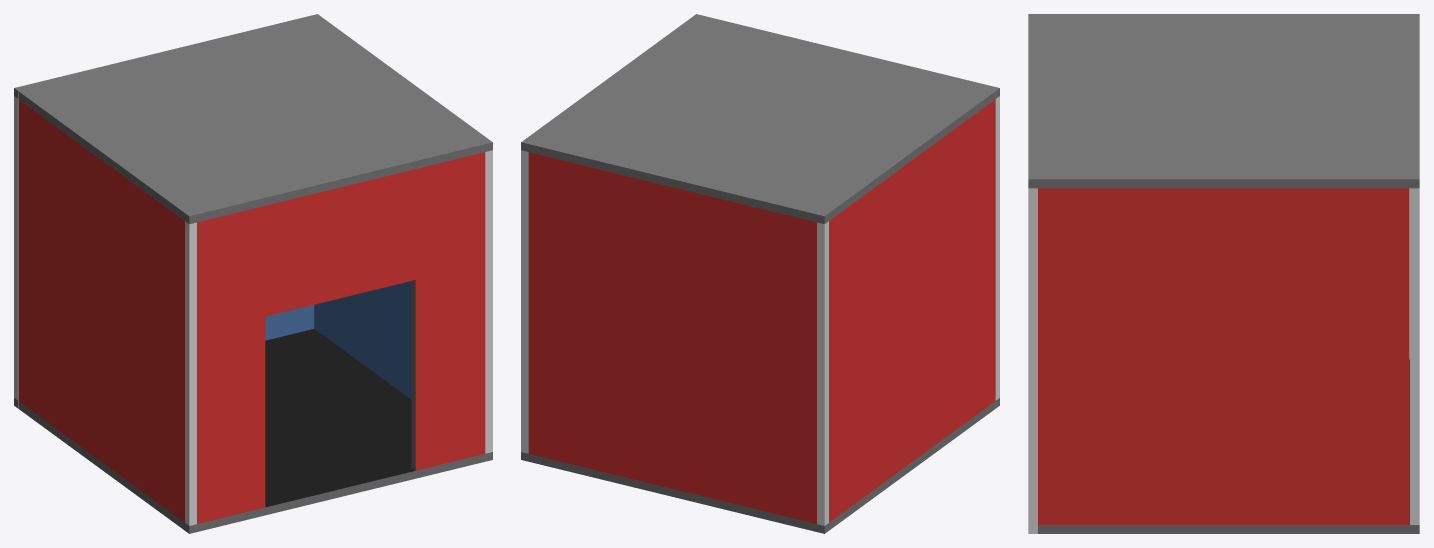
Rendered from Modular.fbx.
The picture shows the model from 3 angles, left to right: view 1: azimuth 30°, elevation 25°; view 2: azimuth 150°, elevation 25°; view 3: azimuth 270°, elevation 25°; orthographic projection. The views are drawn at different scales.
Visible parts, largest first — view 1: Doorway, West Wall, Ceiling, Floor, East Wall, Top South Beam, SouthWest Pillar, Bottom South Beam, Top West Beam, SouthEast Pillar, NorthWest Pillar, Bottom West Beam (+3 smaller); view 2: North Wall, West Wall, Ceiling, Top North Beam, NorthWest Pillar, Top West Beam, Bottom North Beam, NorthEast Pillar, SouthWest Pillar, Bottom West Beam, Top South Beam, Top East Beam; view 3: East Wall, Ceiling, Top East Beam, SouthEast Pillar, NorthEast Pillar, Bottom East Beam, Top North Beam, Top South Beam, Top West Beam.
Boxes of the visible parts, x1=… form: Doorway: x1=197, y1=152, x2=485, y2=523; West Wall: x1=18, y1=99, x2=184, y2=522; Ceiling: x1=26, y1=19, x2=480, y2=211; Floor: x1=265, y1=329, x2=411, y2=502; East Wall: x1=314, y1=281, x2=411, y2=399; Top South Beam: x1=193, y1=141, x2=485, y2=222; SouthWest Pillar: x1=185, y1=221, x2=196, y2=525; Bottom South Beam: x1=197, y1=454, x2=485, y2=531; Top West Beam: x1=18, y1=89, x2=191, y2=220; SouthEast Pillar: x1=485, y1=150, x2=492, y2=453; NorthWest Pillar: x1=14, y1=96, x2=18, y2=400; Bottom West Beam: x1=18, y1=401, x2=184, y2=530; North Wall: x1=528, y1=152, x2=816, y2=523; West Wall: x1=829, y1=99, x2=995, y2=522; Ceiling: x1=533, y1=19, x2=987, y2=211; Top North Beam: x1=528, y1=141, x2=820, y2=222; NorthWest Pillar: x1=817, y1=221, x2=828, y2=525; Top West Beam: x1=822, y1=89, x2=995, y2=220; Bottom North Beam: x1=528, y1=454, x2=816, y2=531; NorthEast Pillar: x1=521, y1=150, x2=528, y2=453; SouthWest Pillar: x1=995, y1=96, x2=999, y2=400; Bottom West Beam: x1=829, y1=401, x2=995, y2=530; Top South Beam: x1=700, y1=16, x2=991, y2=89; Top East Beam: x1=526, y1=17, x2=698, y2=140; East Wall: x1=1038, y1=188, x2=1409, y2=524; Ceiling: x1=1038, y1=18, x2=1409, y2=175; Top East Beam: x1=1038, y1=175, x2=1409, y2=188; SouthEast Pillar: x1=1028, y1=188, x2=1037, y2=524; NorthEast Pillar: x1=1410, y1=188, x2=1419, y2=524; Bottom East Beam: x1=1038, y1=521, x2=1409, y2=533; Top North Beam: x1=1409, y1=18, x2=1419, y2=175; Top South Beam: x1=1028, y1=18, x2=1037, y2=175; Top West Beam: x1=1038, y1=14, x2=1409, y2=17.
Bounding box in the file's own units: 400 × 400 × 400.
